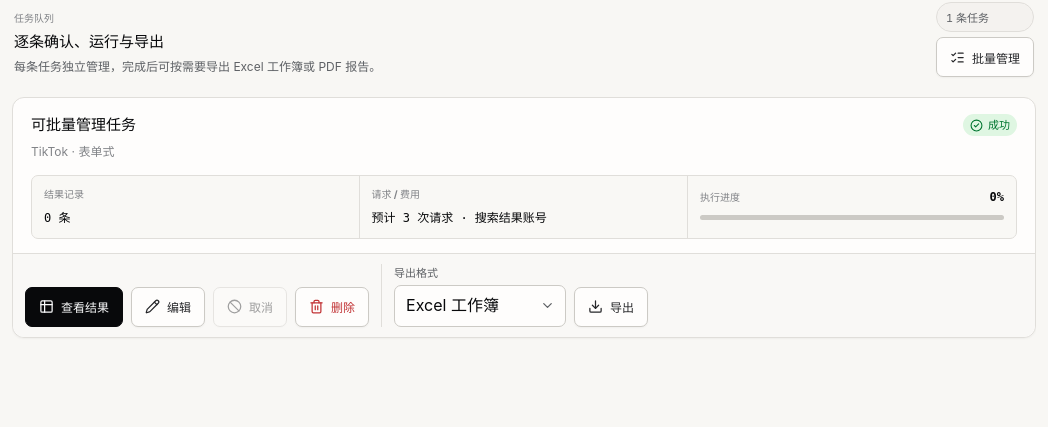
Test: TaskQueue › 删除选择框只在批量管理模式显示，退出时清空选择
The image size is (1048, 427).
What coordinates should you click on to do the following:
click the button with aria-label "批量管理"
I would click on:
 (985, 57)
Its box is [936,37,1034,77].
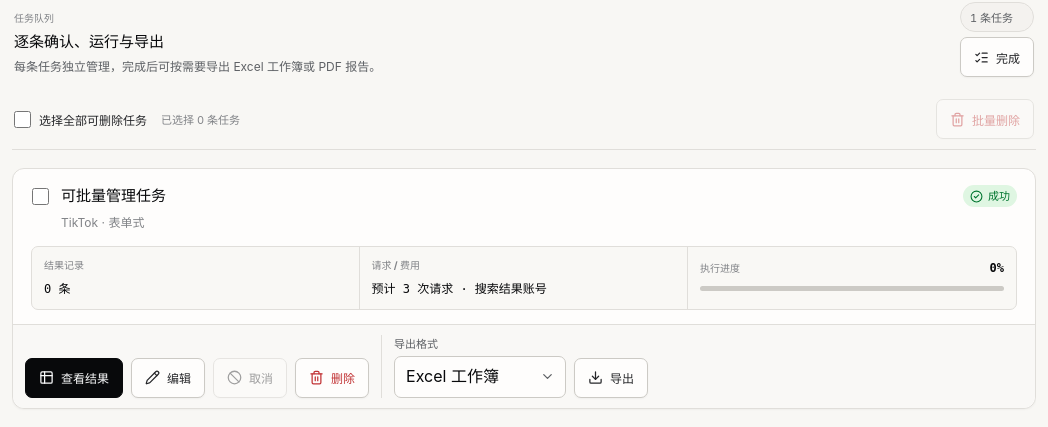
expect the checkbox named "选择任务 可批量管理任务" is shown: met
What coordinates should you click on to do the following:
click the checkbox named "选择任务 可批量管理任务"
I would click on:
 (40, 196)
Its box is [32,188,48,204].
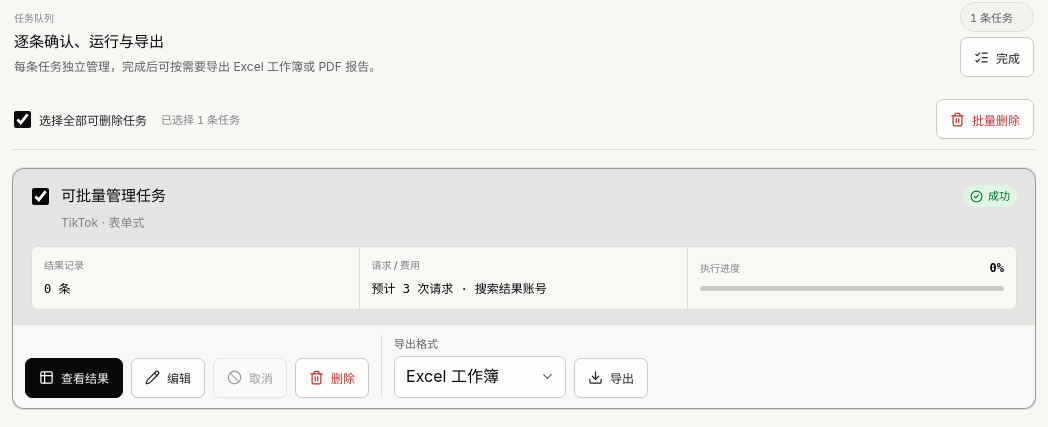
expect the text "已选择 1 条任务" is shown: met, box [161,113,240,127]
What coordinates should you click on to do the following:
click the button named "批量管理"
I would click on:
 (997, 57)
Its box is [960,37,1034,77].
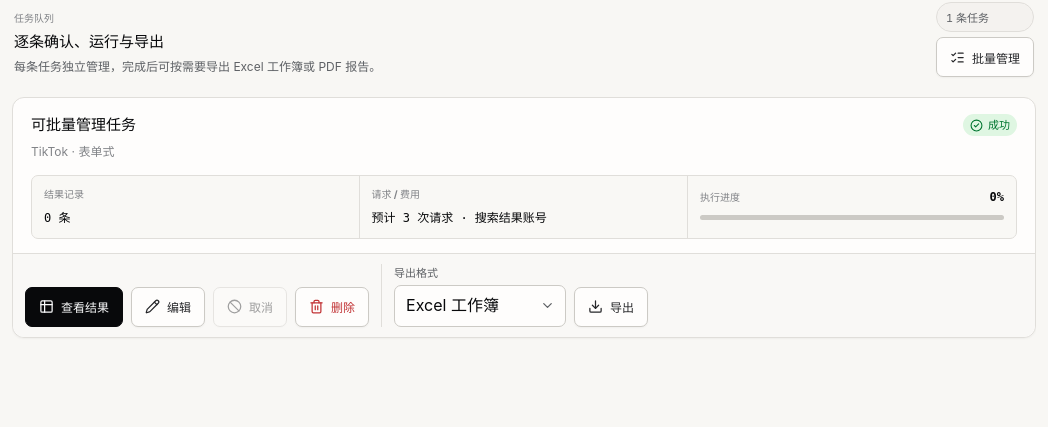
expect the checkbox is gone: met
What coordinates should you click on to do the following:
click the button with aria-label "批量管理"
I would click on:
 (985, 57)
Its box is [936,37,1034,77].
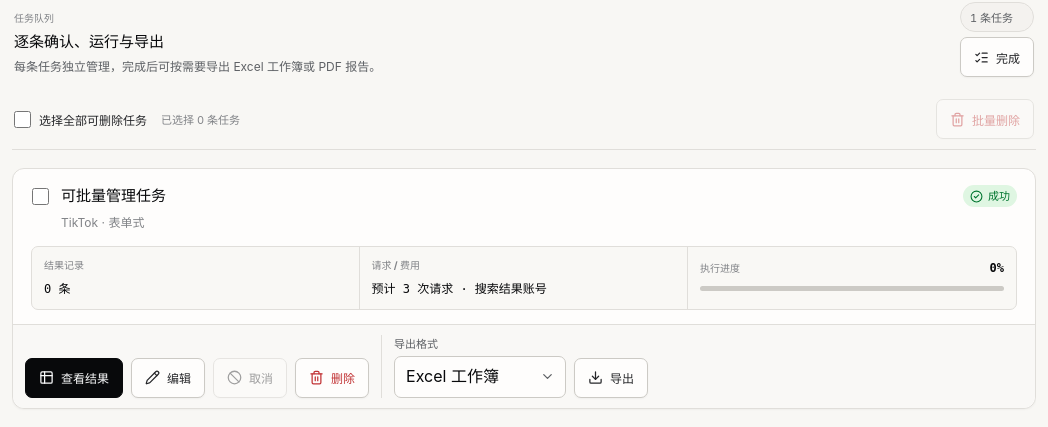
expect the text "已选择 0 条任务" is shown: met, box [161,113,240,127]
